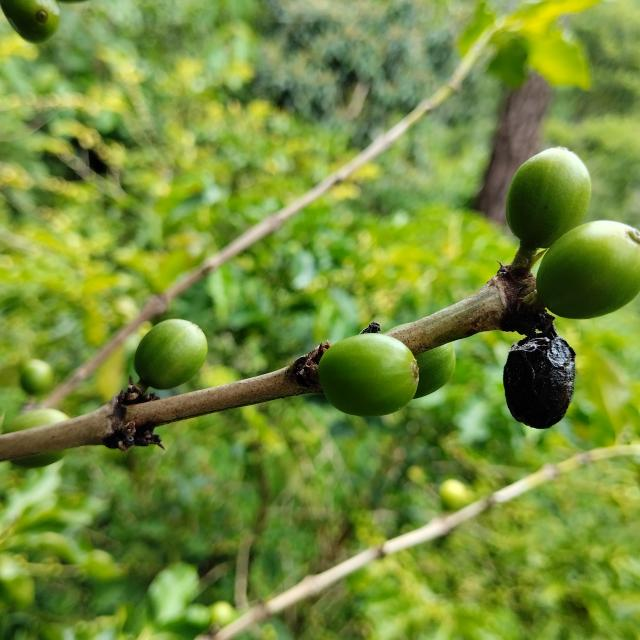green: (538, 220, 640, 319), (507, 147, 592, 248), (318, 334, 419, 417), (134, 319, 207, 390), (414, 343, 456, 399)
red: (504, 335, 576, 429)
